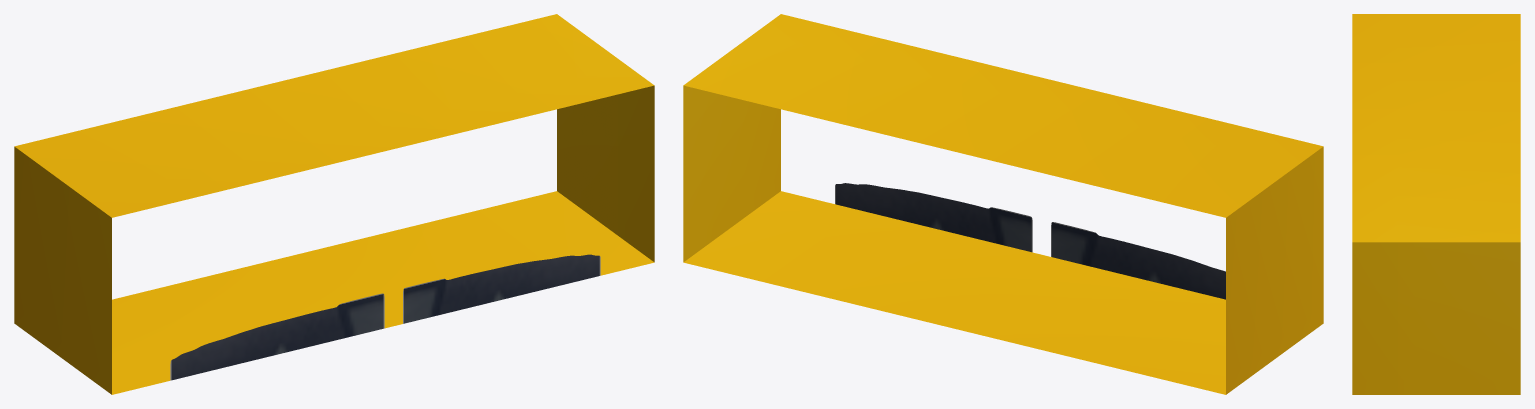
The model's file is Ulls_01.fbx.
3 renders of one model, left to right at view 1: azimuth 30°, elevation 25°; view 2: azimuth 150°, elevation 25°; view 3: azimuth 270°, elevation 25°, orthographic. The views are drawn at different scales.
Visible parts, largest first — view 1: Ulls_01; view 2: Ulls_01; view 3: Ulls_01.
Part boxes in pixels (bbox=[...]): Ulls_01: bbox=[14, 14, 654, 394]; Ulls_01: bbox=[683, 14, 1323, 394]; Ulls_01: bbox=[1352, 14, 1520, 394].
Size of the model in its own units: 3.21 by 1 by 1.
